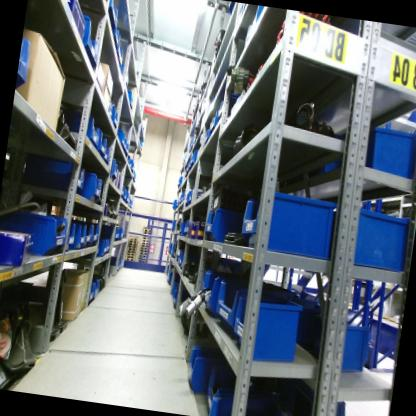pallet: (128, 233, 139, 240), (142, 231, 151, 237), (143, 224, 152, 230), (124, 257, 134, 262), (142, 236, 151, 241), (127, 239, 138, 243), (127, 241, 138, 245), (127, 244, 137, 248), (126, 249, 136, 253), (125, 251, 135, 255), (143, 228, 153, 232), (127, 246, 136, 250), (125, 254, 134, 258), (137, 259, 146, 263), (138, 251, 147, 255), (138, 257, 146, 261), (138, 254, 146, 258), (140, 249, 148, 253), (141, 239, 149, 243), (140, 246, 147, 250), (140, 244, 148, 247), (141, 242, 149, 245)
